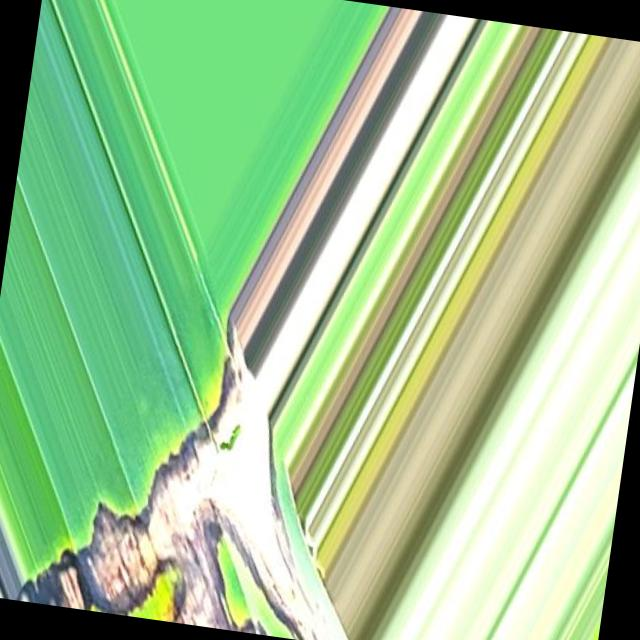Banana_Black_Sigatoka: (0, 311, 332, 639)
